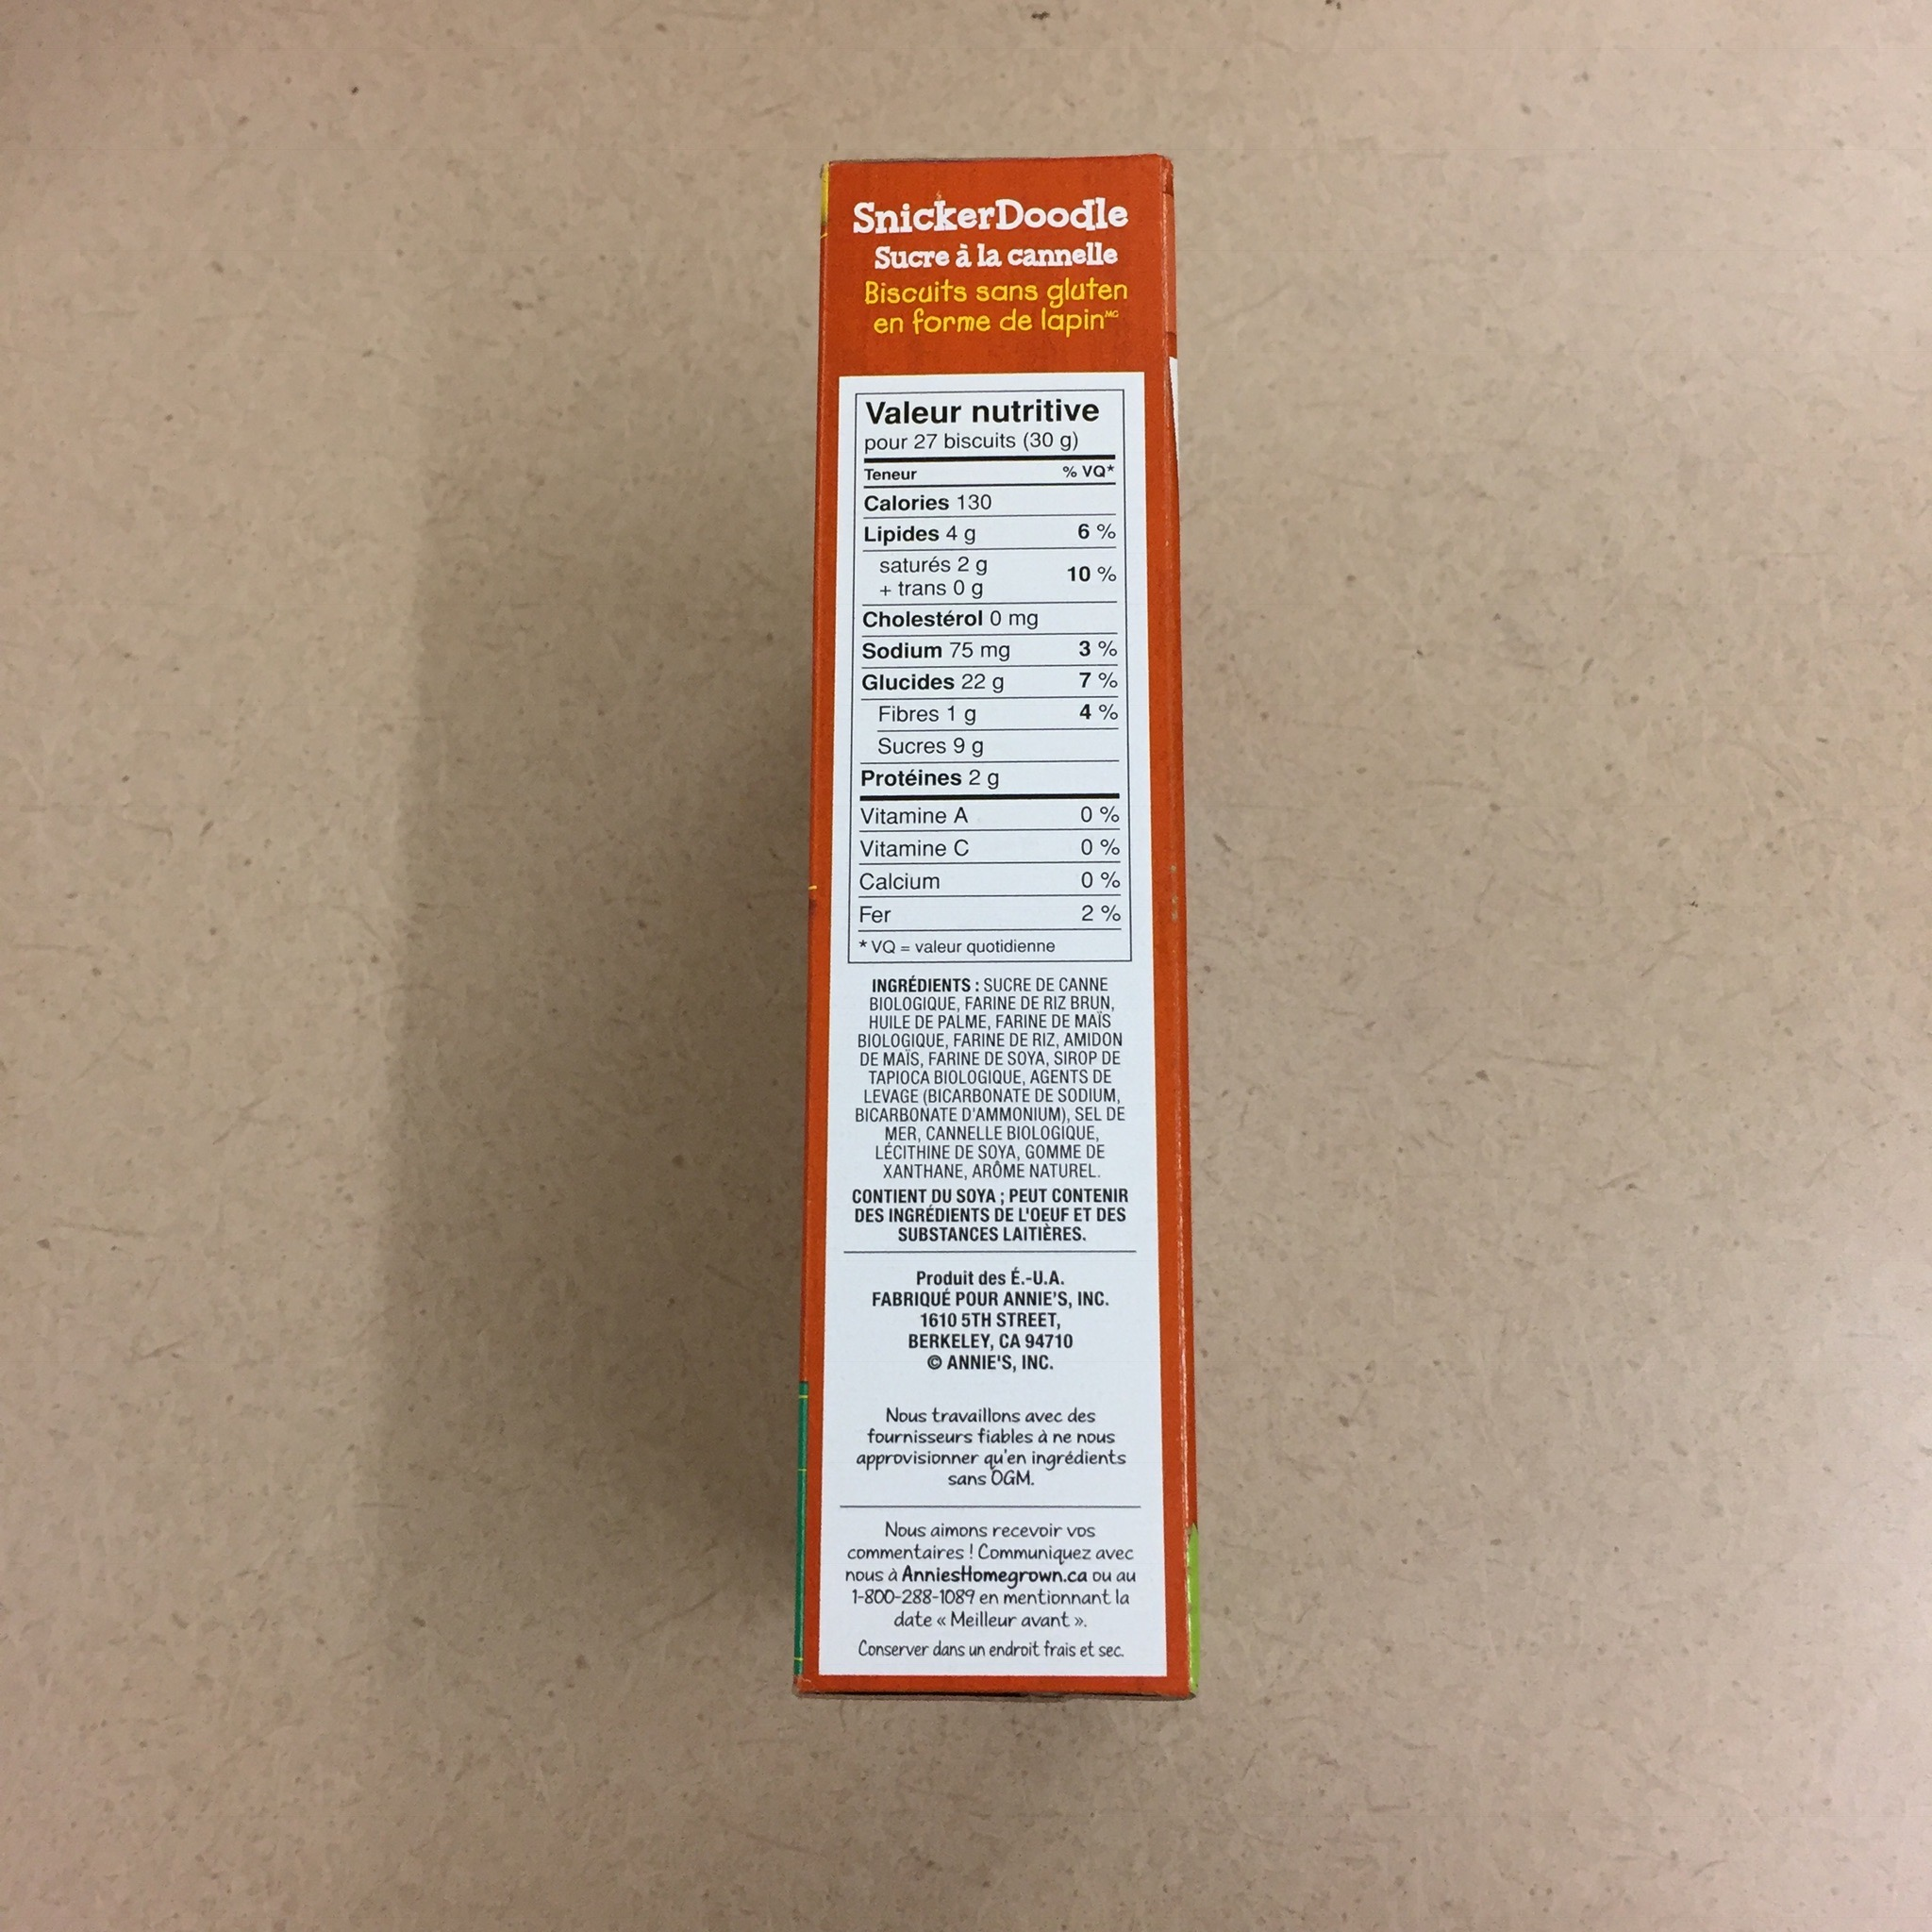annies_snickerdoodle_cinnamon_sugar: (780, 150, 1210, 1704)
